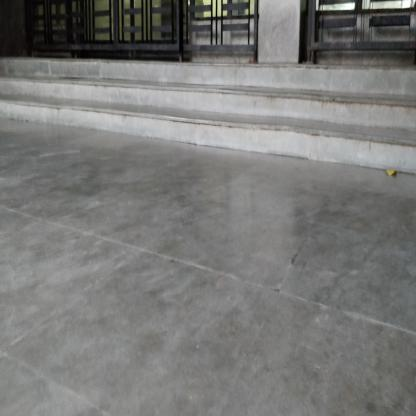stairs: (101, 64, 233, 161)
